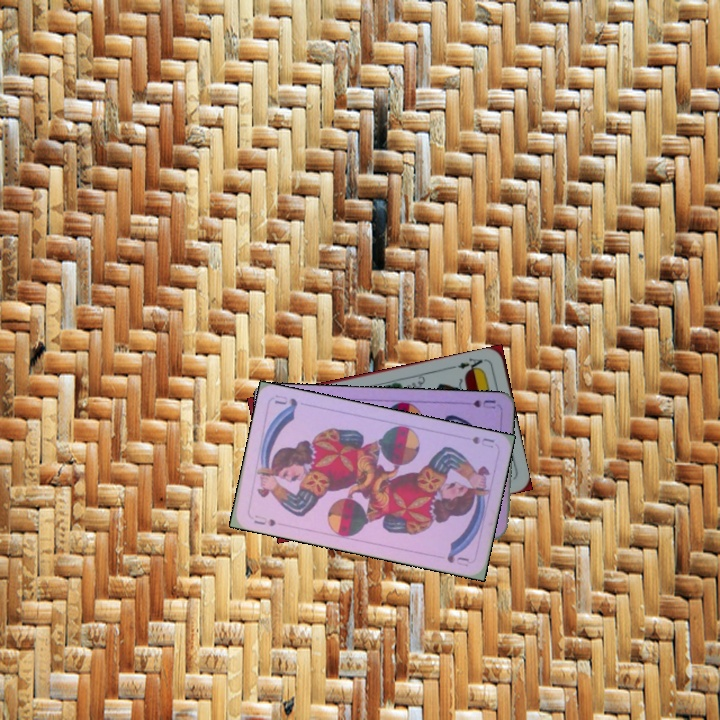EA: (453, 354, 485, 375)
SU: (468, 432, 497, 450), (250, 511, 278, 529), (469, 396, 498, 411)
